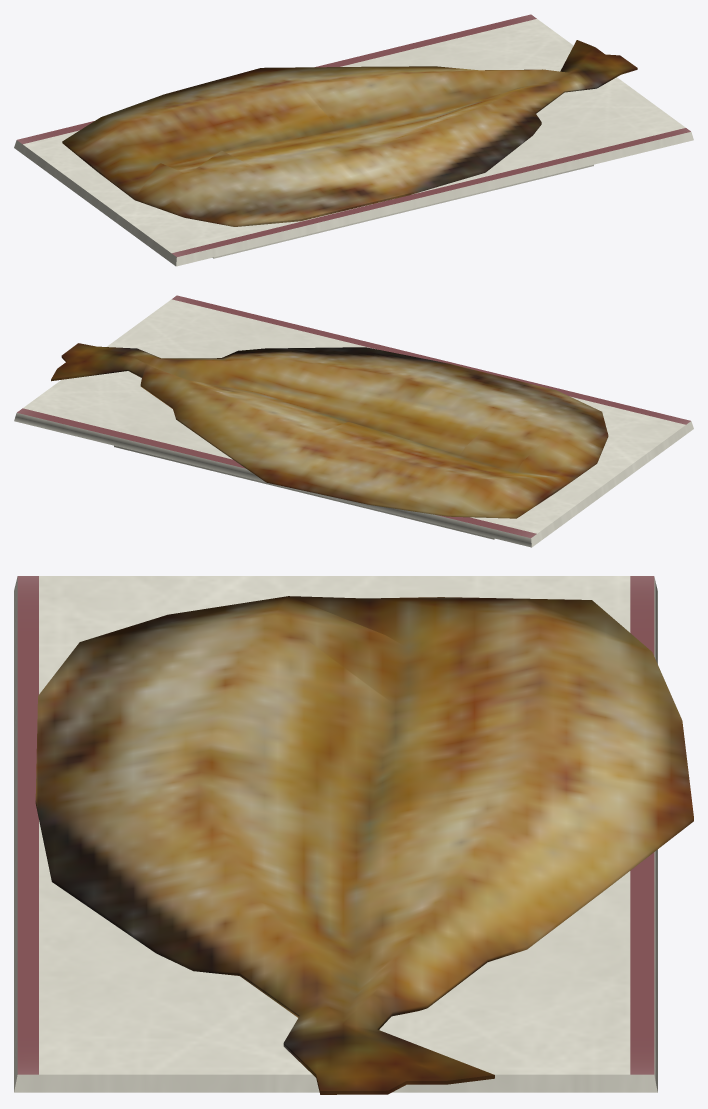
The model's file is dinerfoods12a.fbx.
3 views of the same model, one above another, from view 1: azimuth 30°, elevation 25°; view 2: azimuth 150°, elevation 25°; view 3: azimuth 270°, elevation 25° (orthographic). The views are drawn at different scales.
Parts seen in each view (by area): view 1: dinerfoods12a; view 2: dinerfoods12a; view 3: dinerfoods12a.
Boxes of the visible parts, <box> form: dinerfoods12a: <box>14,14,693,266</box>; dinerfoods12a: <box>14,295,693,547</box>; dinerfoods12a: <box>14,576,693,1094</box>.
Bounding box in the file's own units: 33.28 × 3.4 × 18.32.
